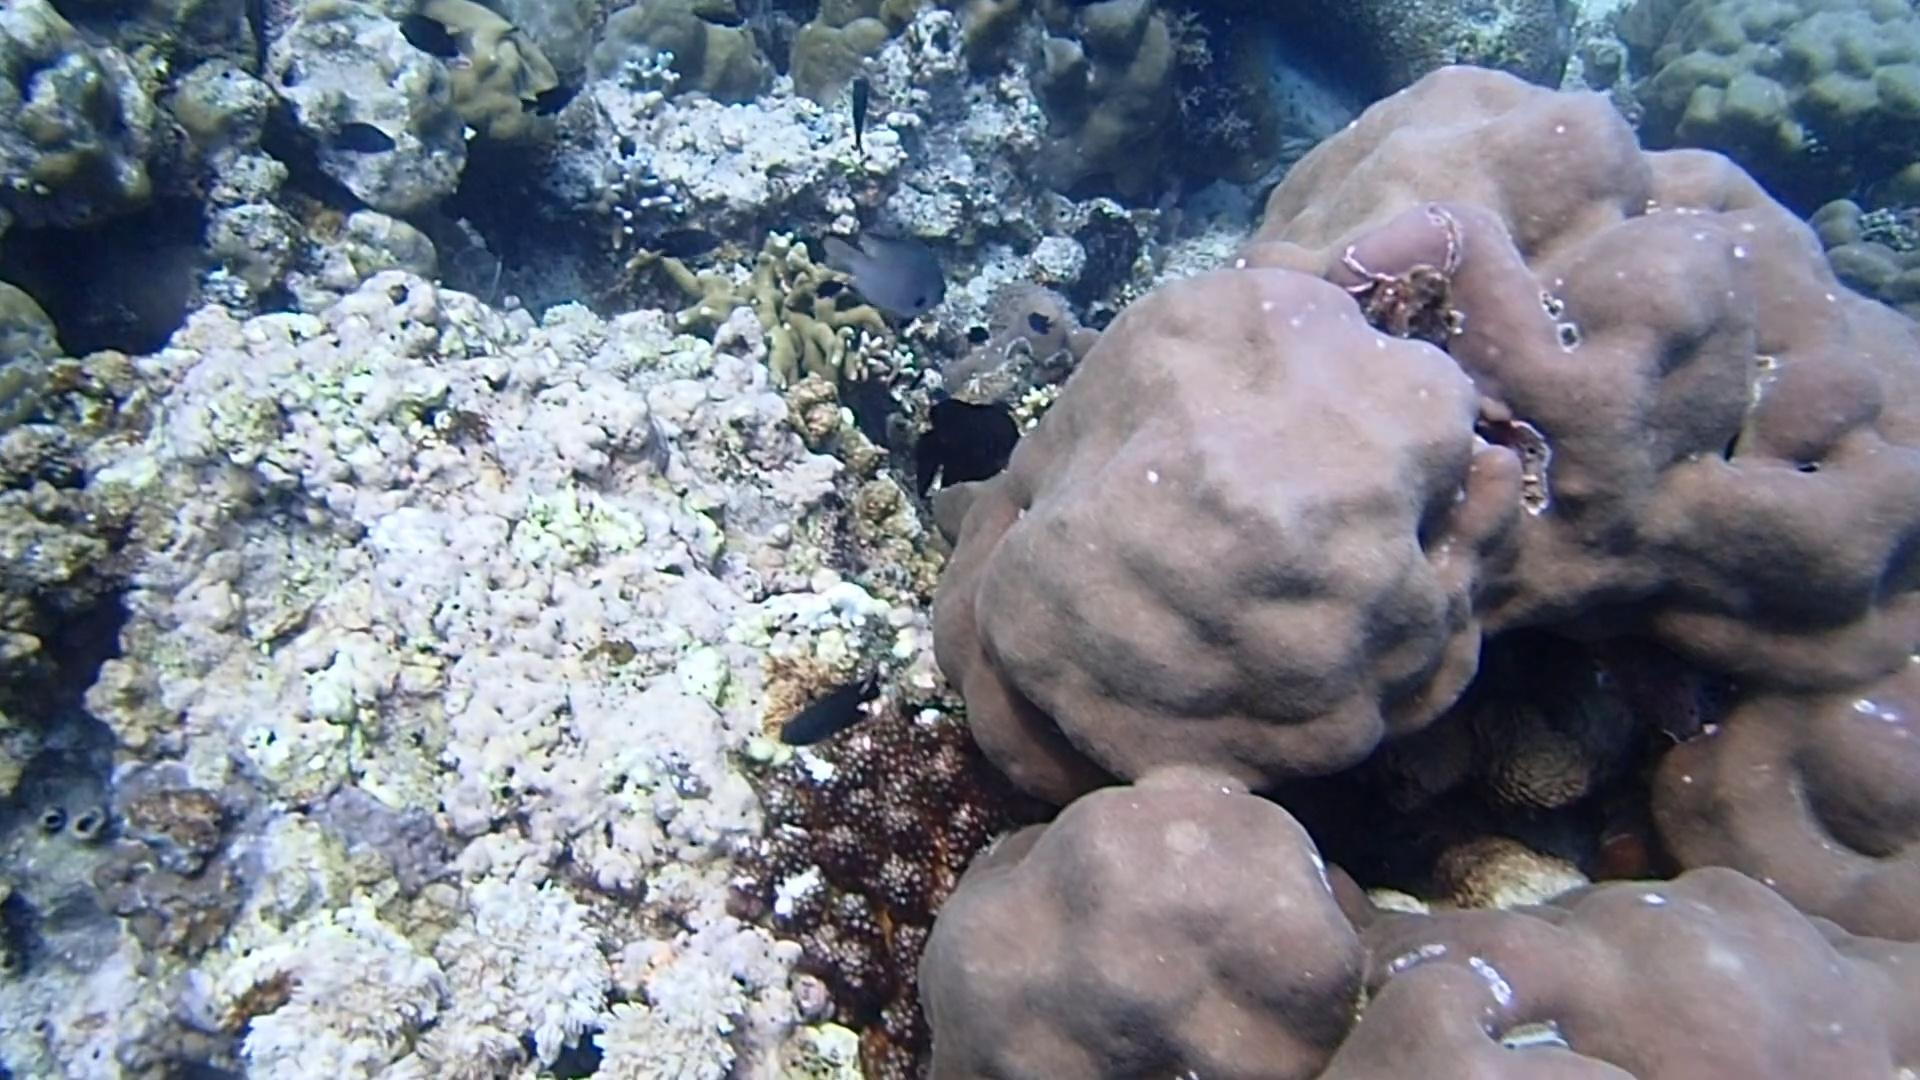Dark Fish: (903, 392, 1027, 501), (771, 669, 885, 757), (393, 8, 467, 66), (840, 71, 881, 162), (326, 115, 396, 164), (514, 76, 584, 121), (808, 269, 847, 305), (1021, 305, 1056, 338), (961, 319, 994, 351)
Light Fish - Dark Fin: (810, 219, 963, 331)
